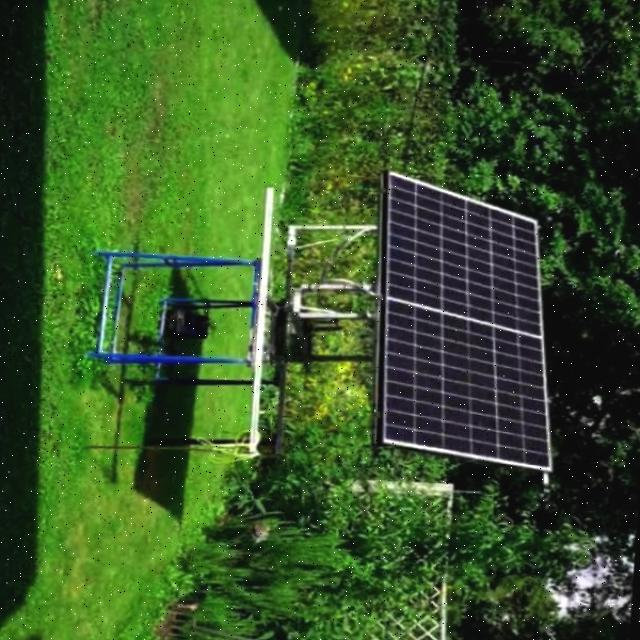Normal Solar Panel: (367, 162, 572, 472)
